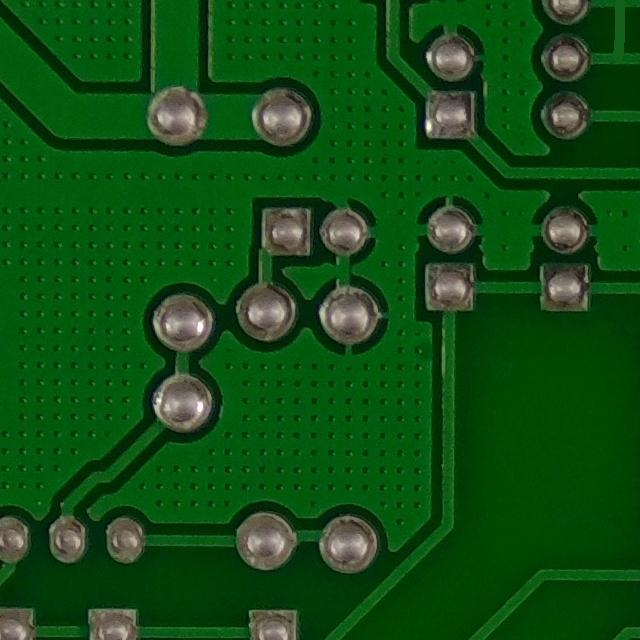short: (565, 0, 640, 77)
